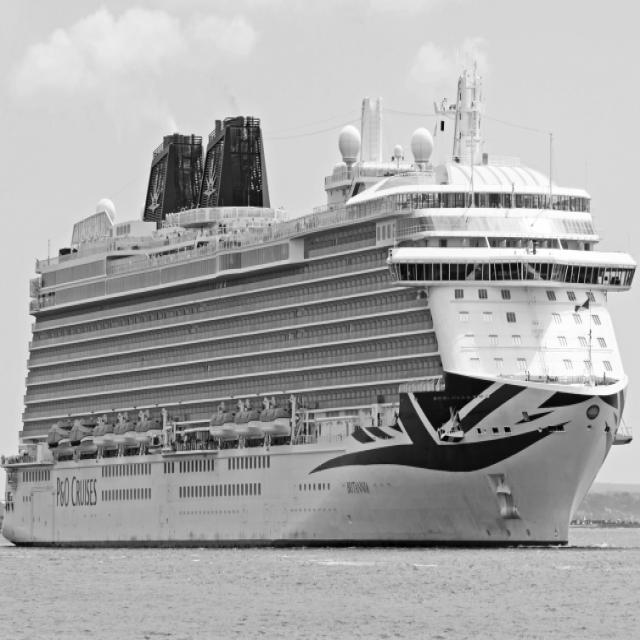cruises: (1, 52, 640, 568)
